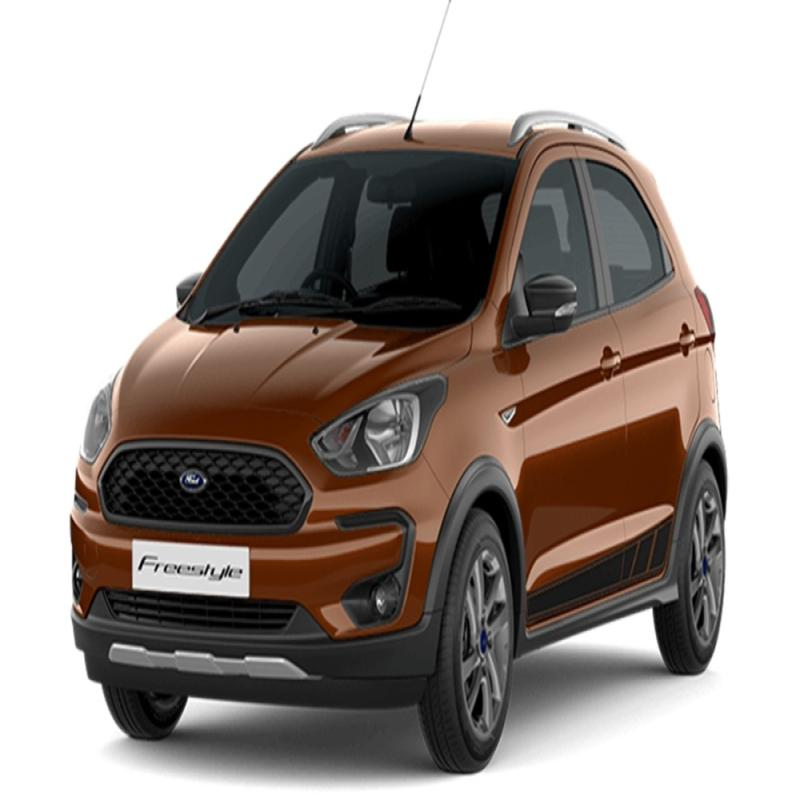car: (50, 101, 729, 722)
